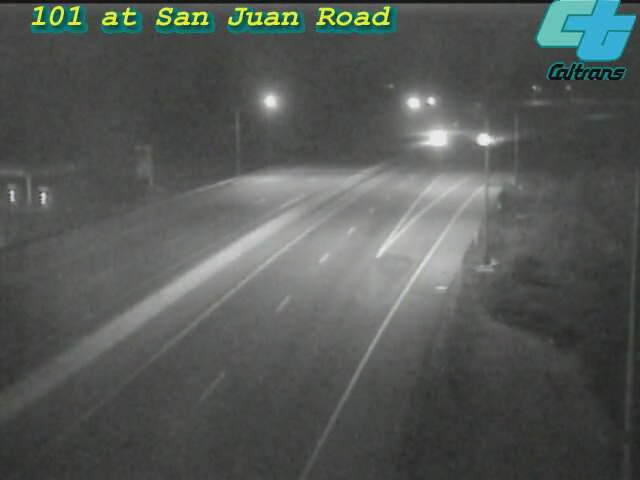vehicle: (411, 113, 461, 163), (461, 114, 511, 164)
